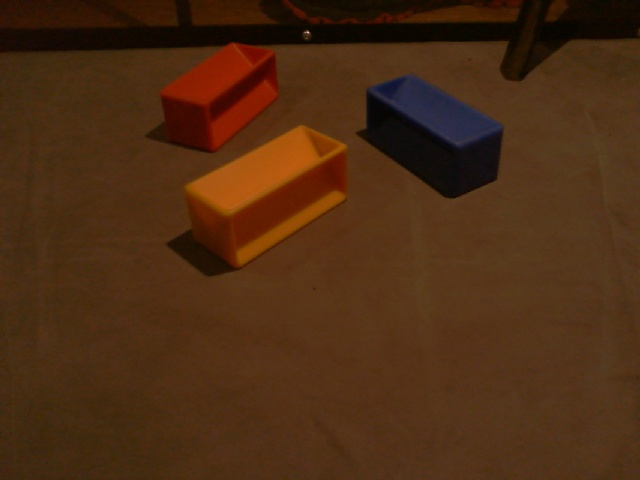BlueSample: (363, 71, 506, 198)
RedSample: (158, 41, 281, 156)
YellowSample: (180, 125, 349, 270)
